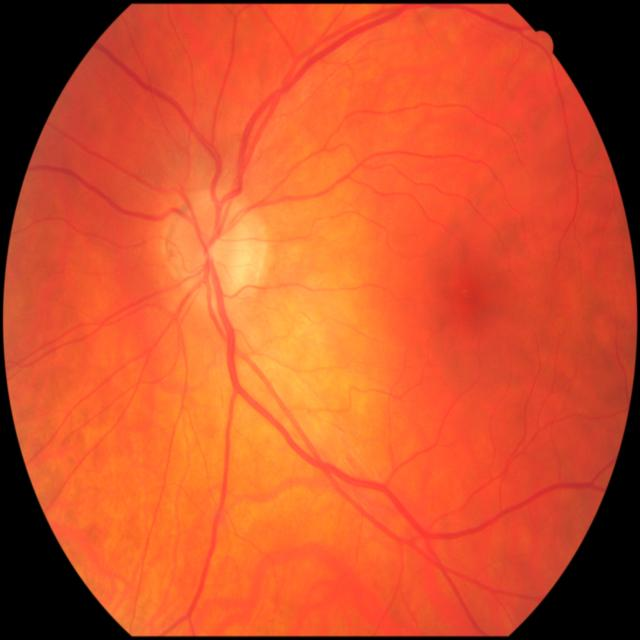OD: (170, 193, 257, 301)
